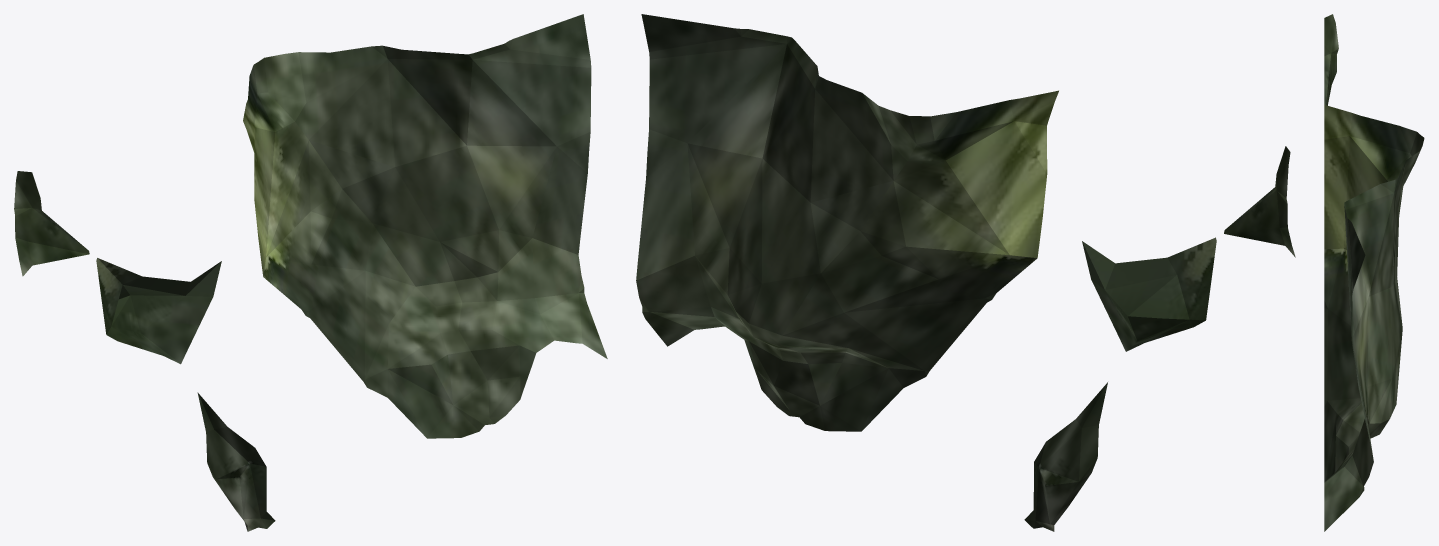
The picture shows the model from 3 angles, left to right: view 1: azimuth 30°, elevation 25°; view 2: azimuth 150°, elevation 25°; view 3: azimuth 270°, elevation 25°; orthographic projection. The views are drawn at different scales.
Size of the model in its own units: 2.95 by 1.99 by 0.5172.
Materials: 1 (1 with a texture image).
